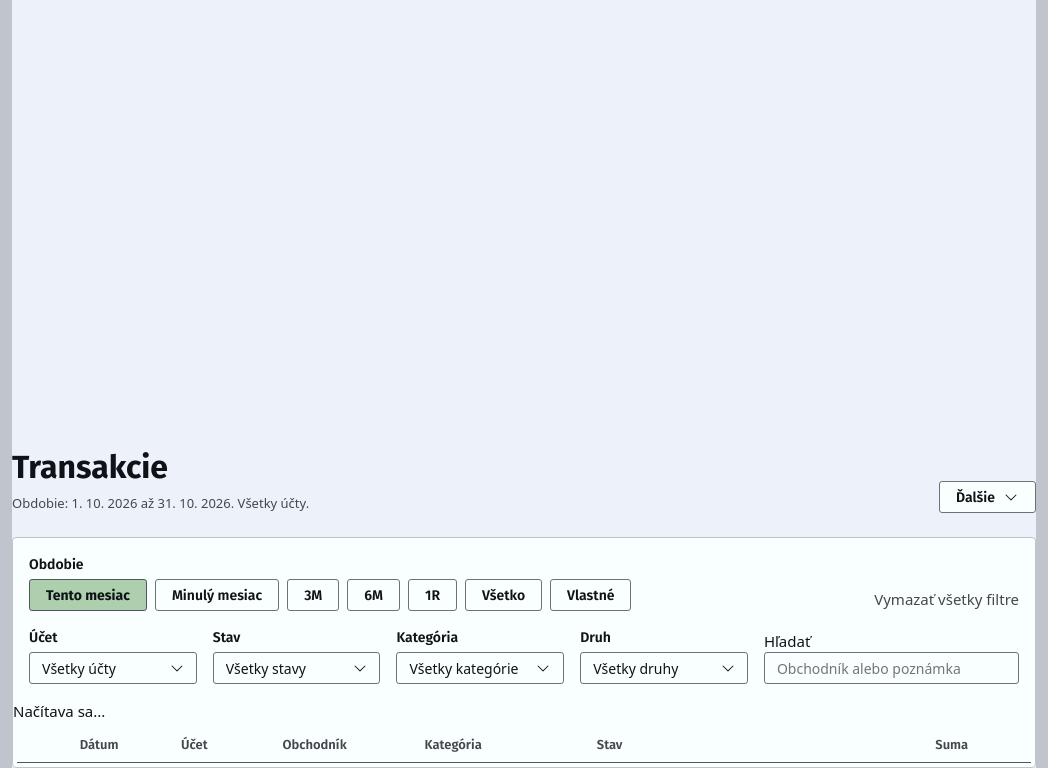
Test: transaction filters, export and sums › rejects an old response after a newer filter and hides previous sums during loading
The width and height of the screenshot is (1048, 768).
(page scrolled)
Select "Potvrdené" in the dropdown labelled "Stav" at (297, 668), box [213,652,380,684]
(page scrolled)
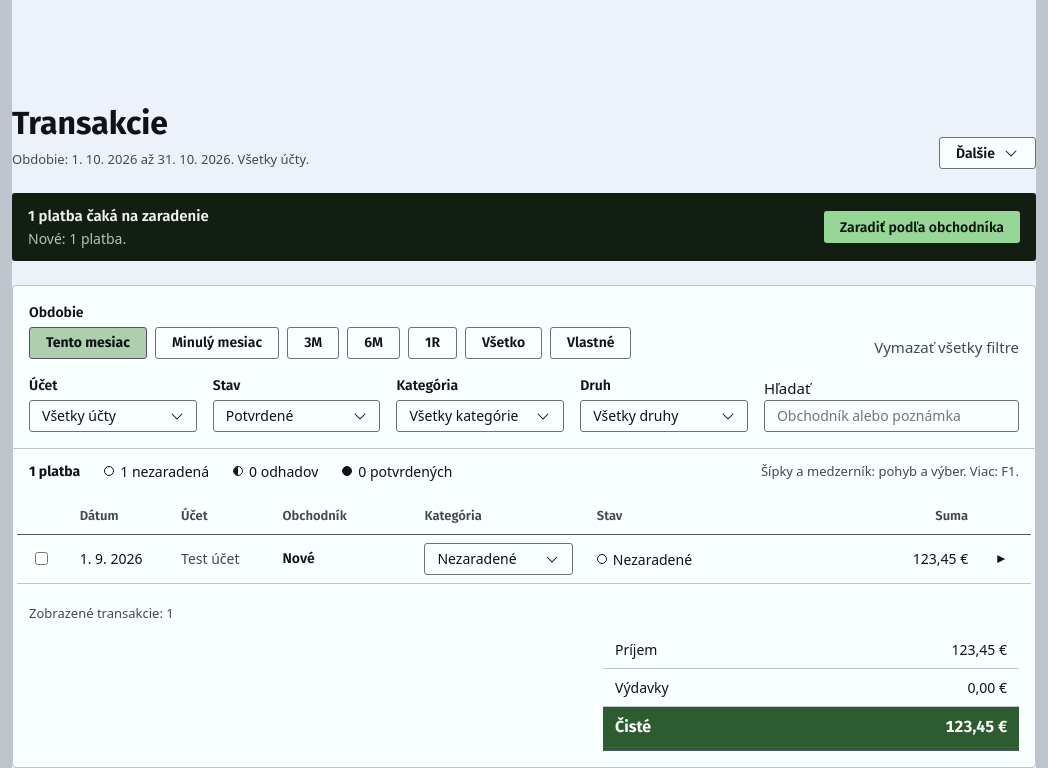
expect the text "Nové" is shown: met, box [282,550,315,567]
Select "Odhad" in the dropdown labelled "Stav" at (297, 416), box [213,400,380,432]
(page scrolled)
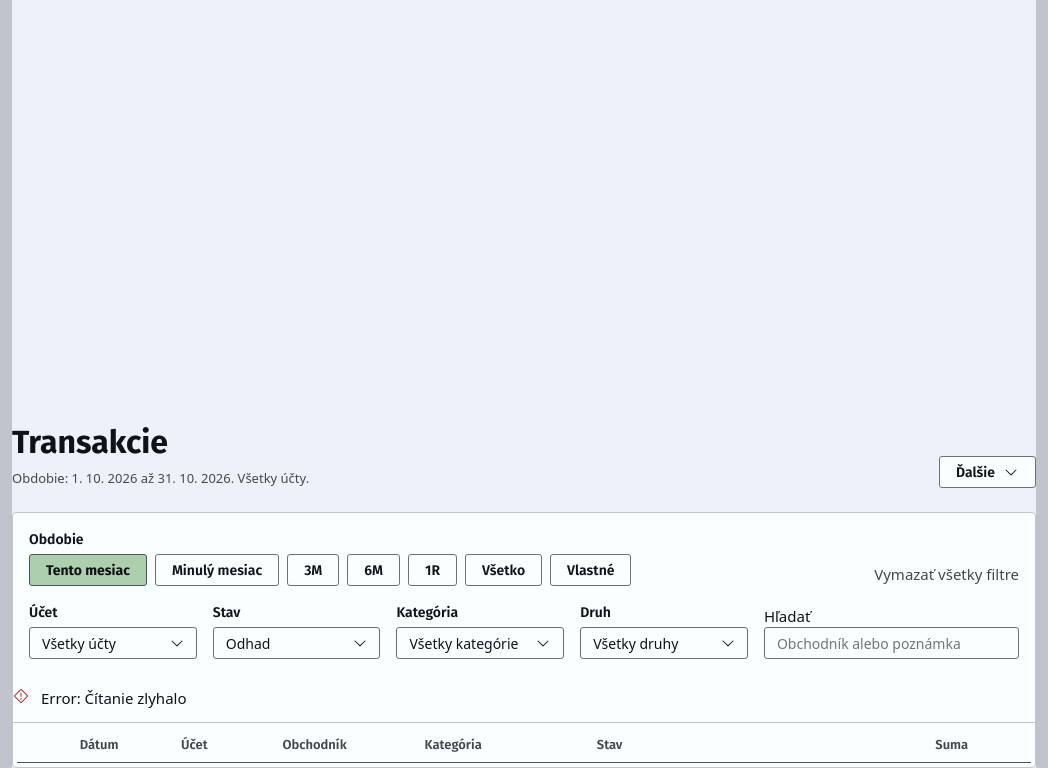
expect the message shows "Čítanie zlyhalo": met, box [41,688,186,708]
expect the text "Nové" is gone: met
